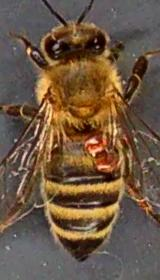varroa_mite: (88, 155, 124, 178), (80, 131, 114, 153)
